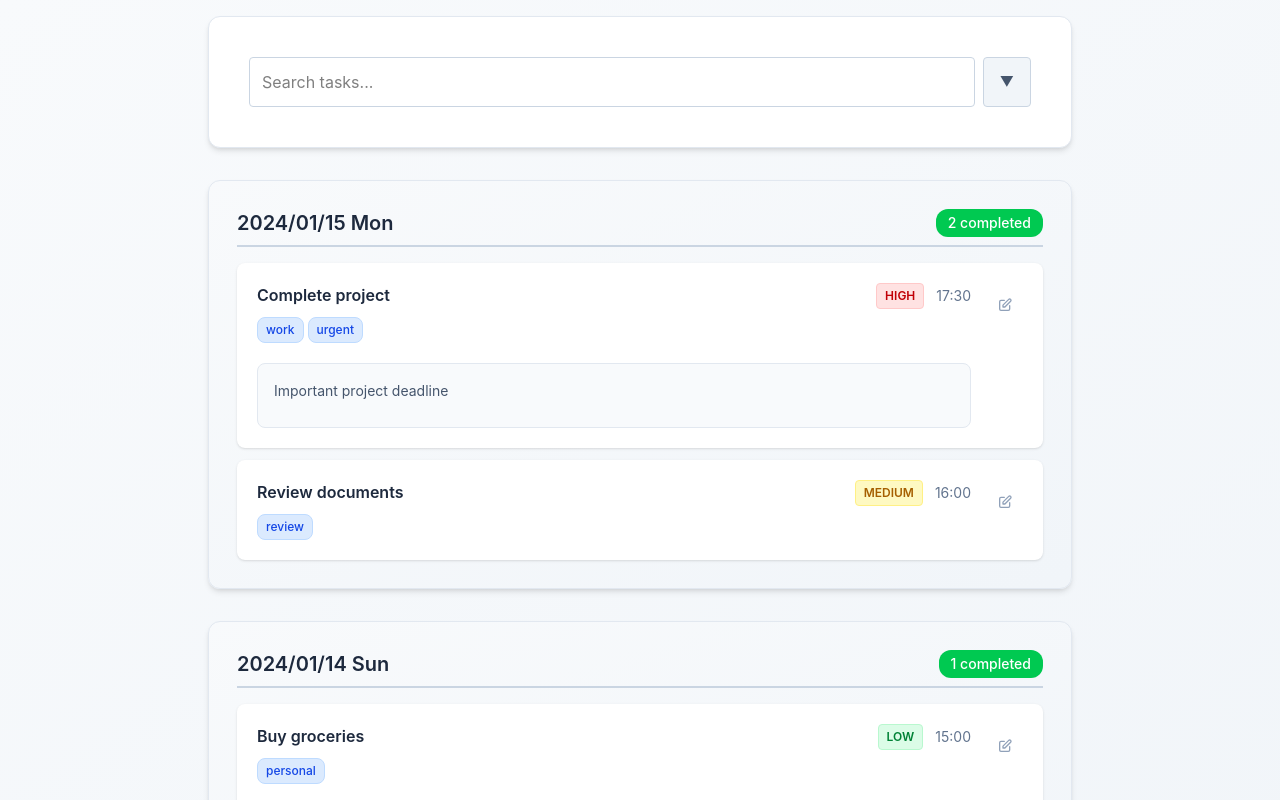
Test case: Archive Component › Archive Filter Functionality › filters tasks by priority
Expected: the heading "Complete project" is shown, [257,285,390,305]
Note: Show advanced filters first
Click the button named "Show advanced filters" at (1007, 82), box [983,57,1031,107]
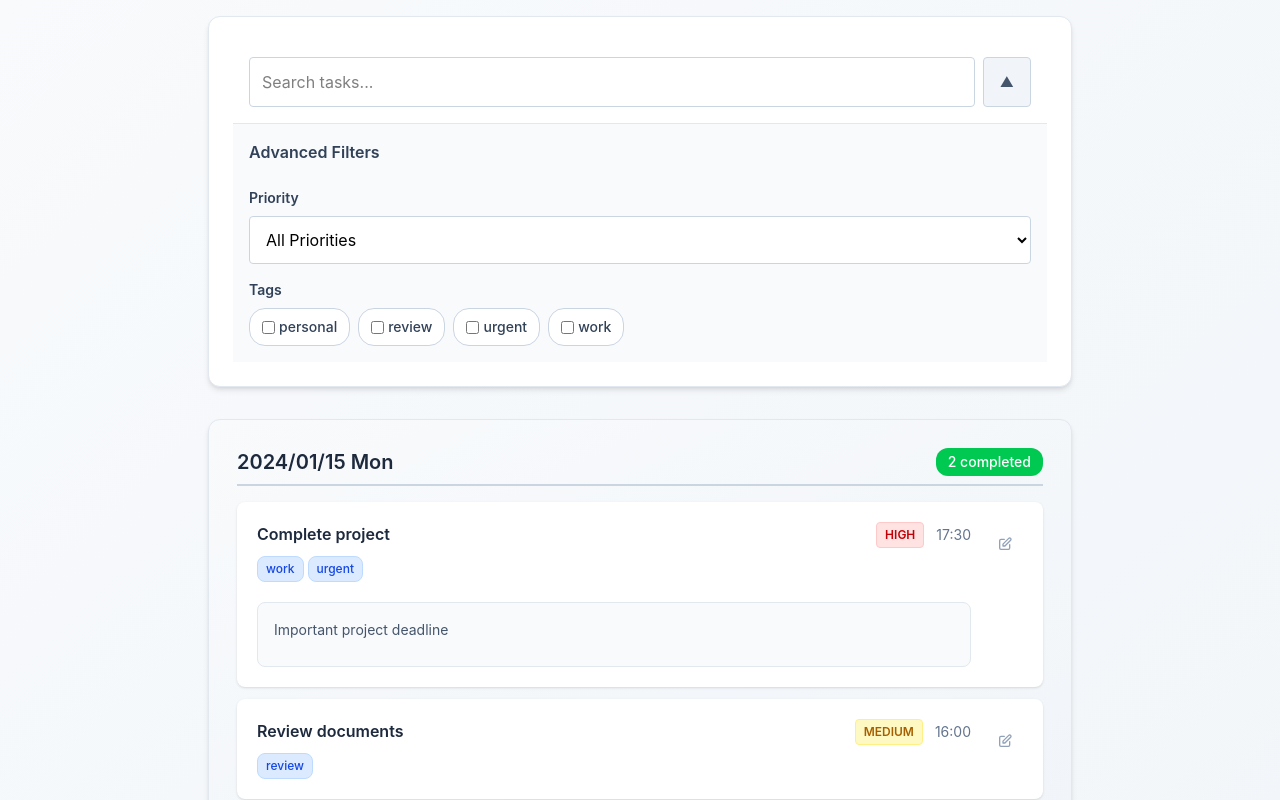
Note: Filter by high priority
Select "High" in the dropdown labelled "Priority" at (640, 240), box [249,216,1031,264]
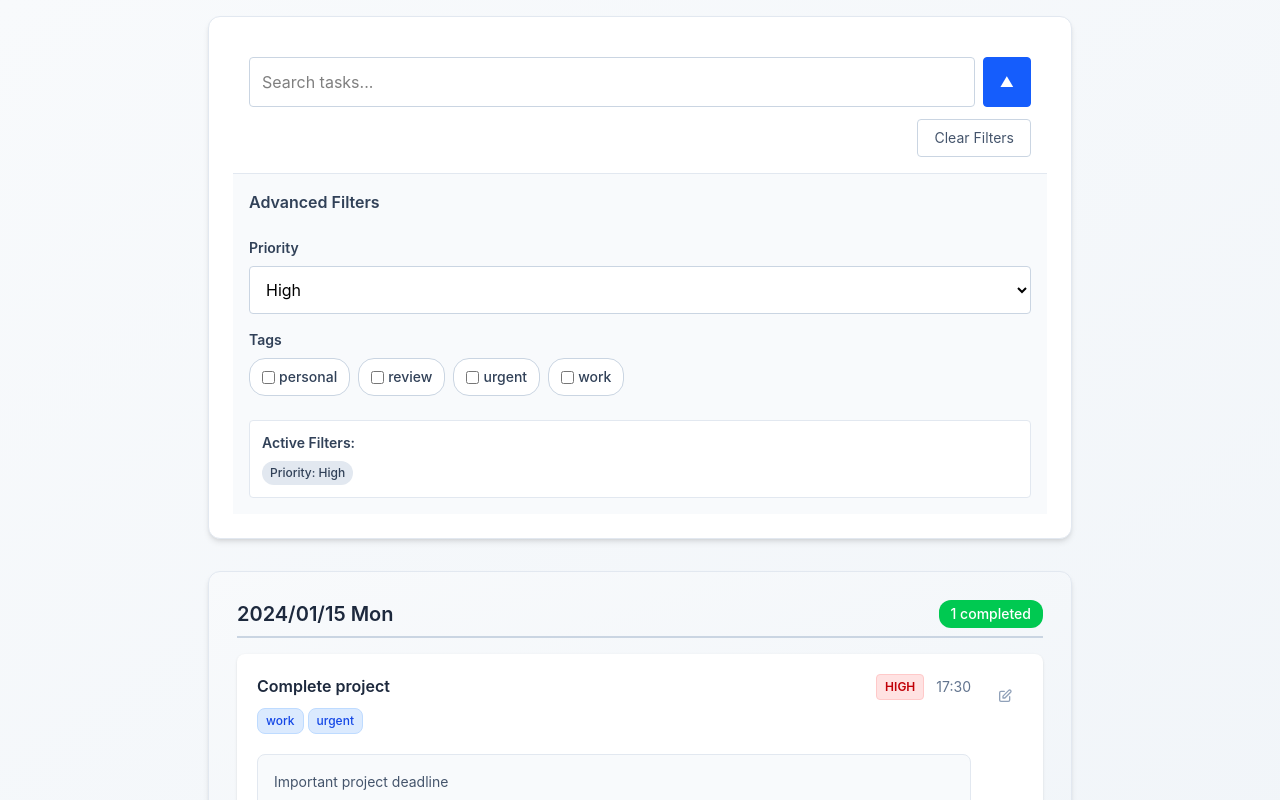
Expected: the heading "Complete project" is shown, [257,676,390,696]
Expected: the heading "Review documents" is gone
